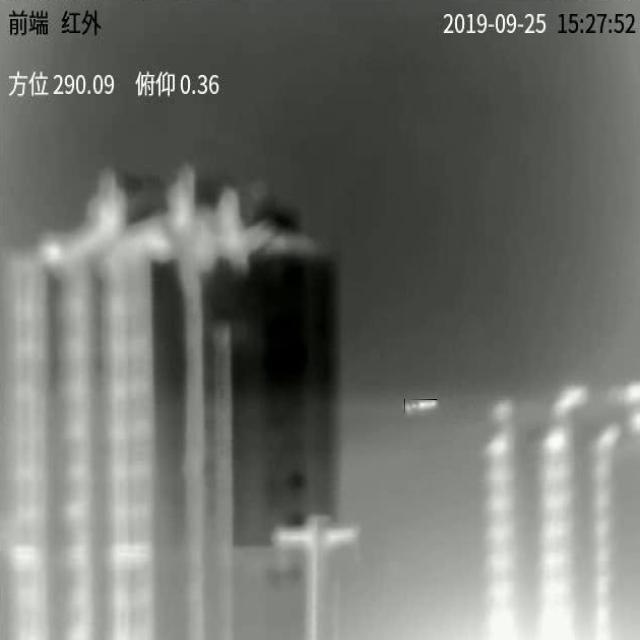drone: (404, 400, 437, 413)
